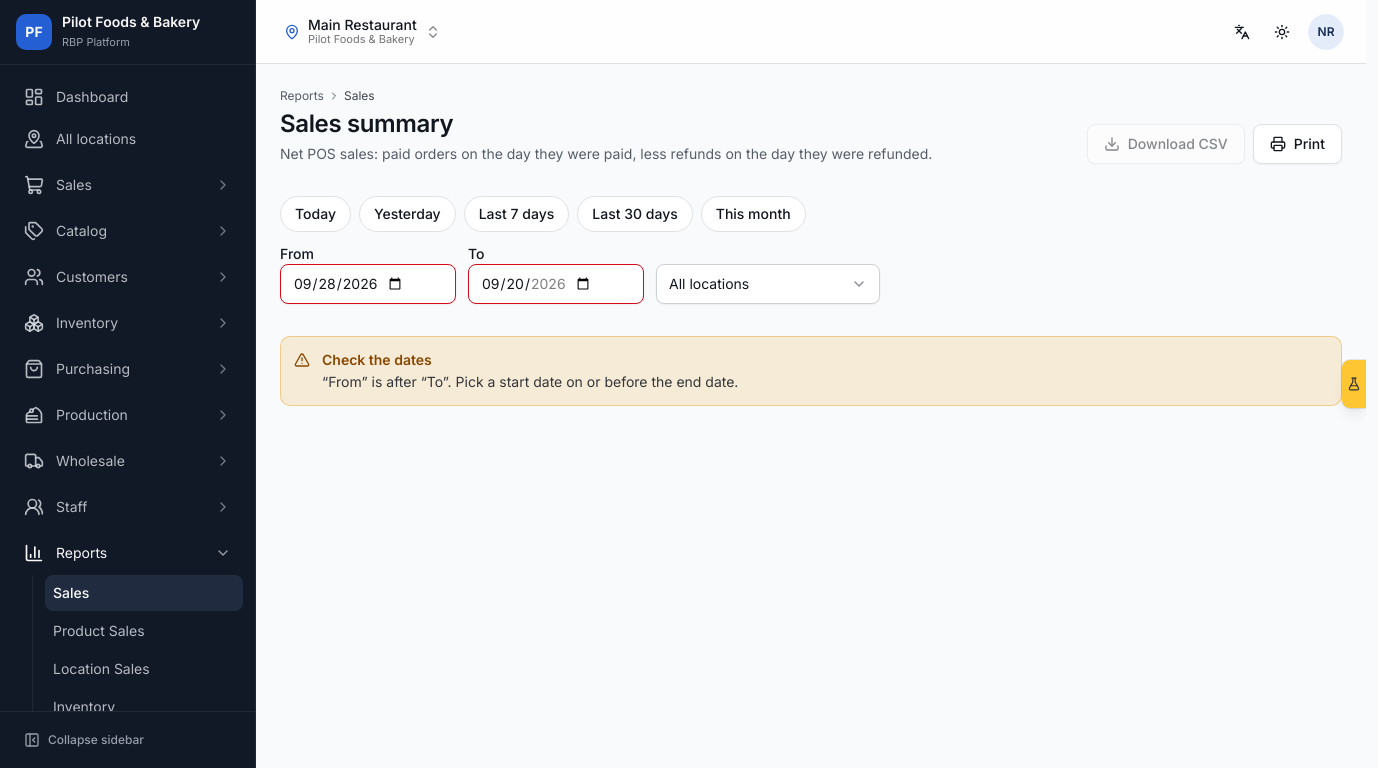
Test: report period filter › refuses an inverted or future range instead of reporting on it
This screenshot has width=1378, height=768.
Expected: the text "“From” is after “To”" is shown, [322,373,738,390]
Expected: the text "How net sales add up" is not shown
Click the button "Last 7 days": point(516, 214) [464,196,569,232]
(page scrolled)
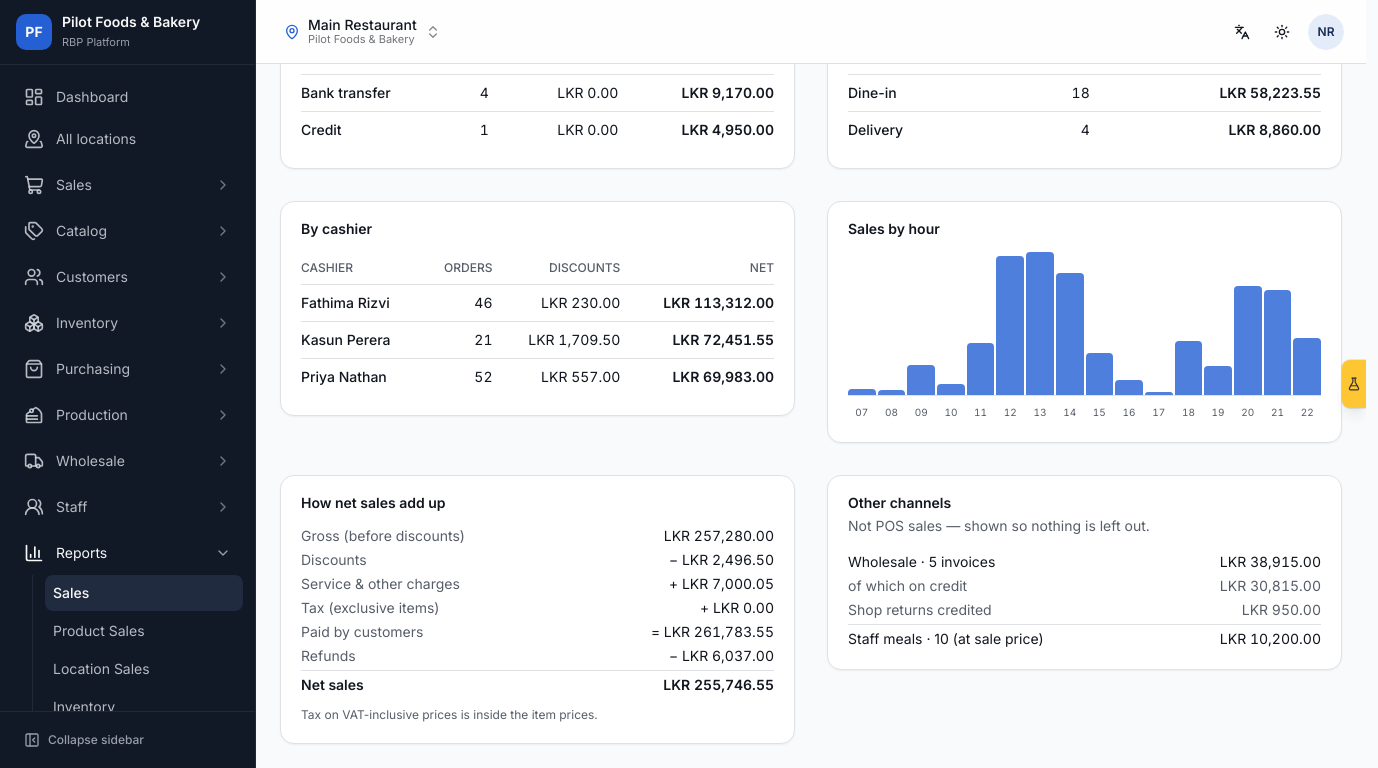
Result: the text "How net sales add up" is shown at [301,494,446,511]
